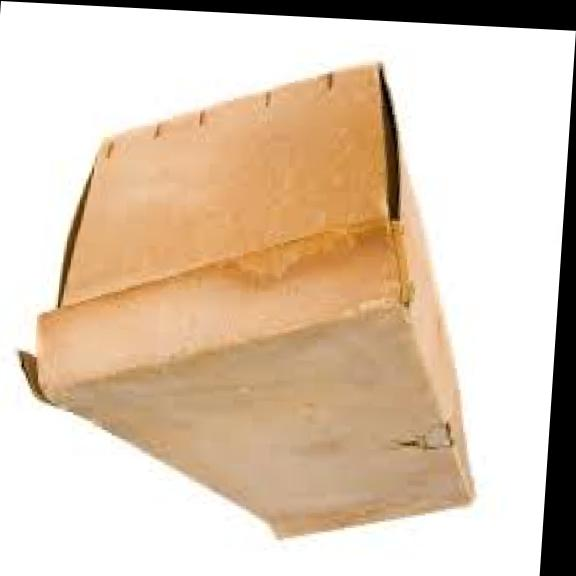Kertas: (19, 67, 473, 537)
